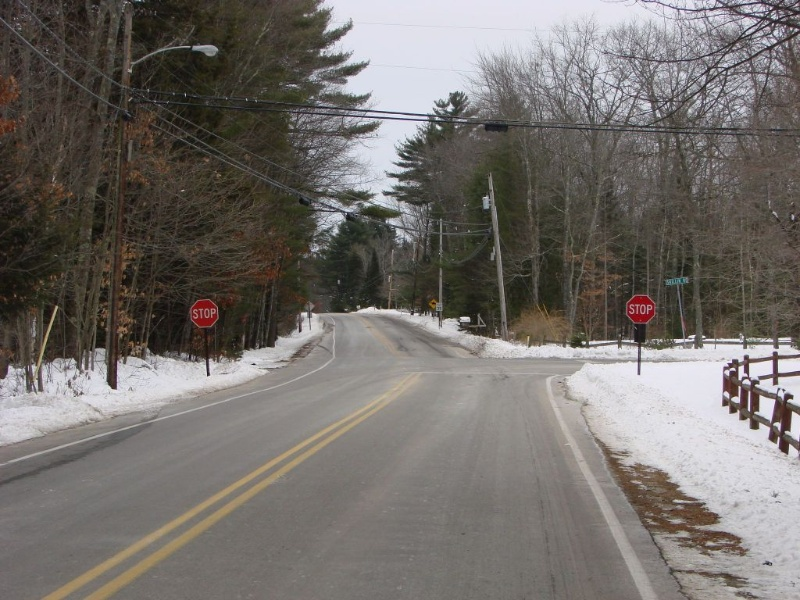speed limit: (435, 303, 443, 312)
stop sign: (623, 292, 657, 326), (188, 296, 220, 329)
